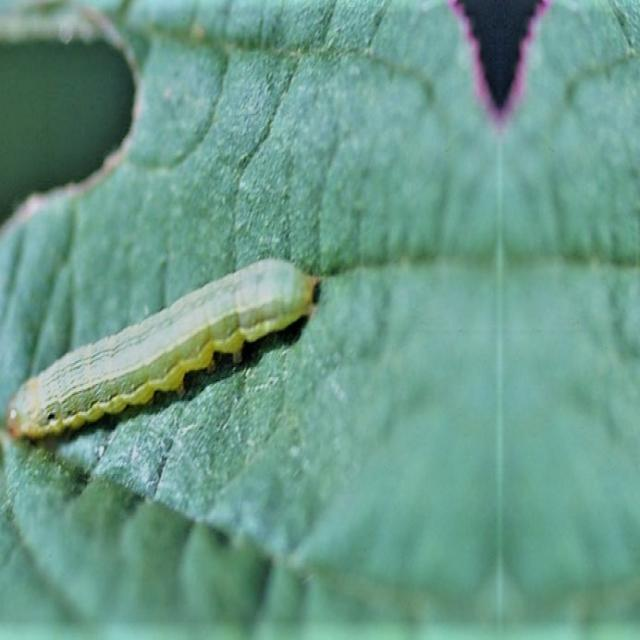Armyworm: (13, 248, 368, 437)
